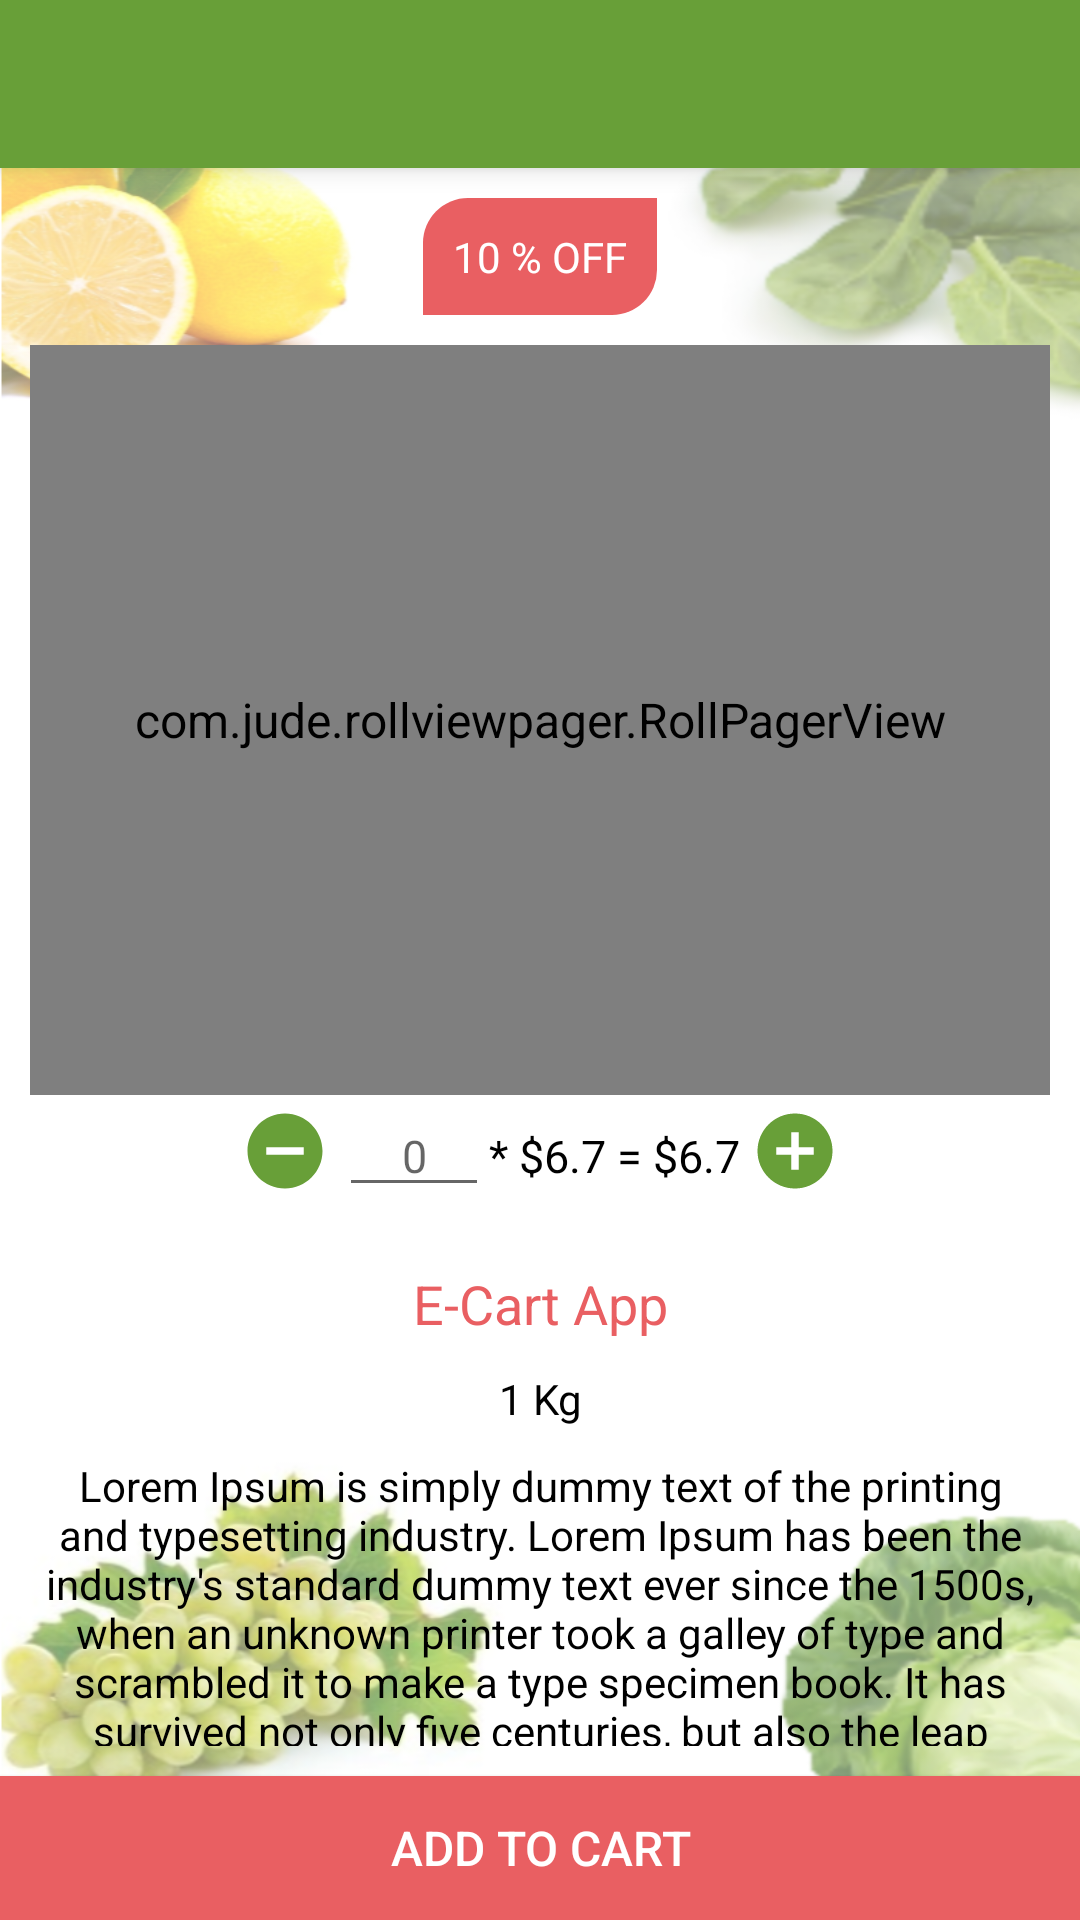

Where icons sit on this 1080 x 1920 app screen, as detection(x1, y1, x2, y2):
add circle: detection(757, 1113, 833, 1189)
minus circle: detection(247, 1113, 323, 1189)
